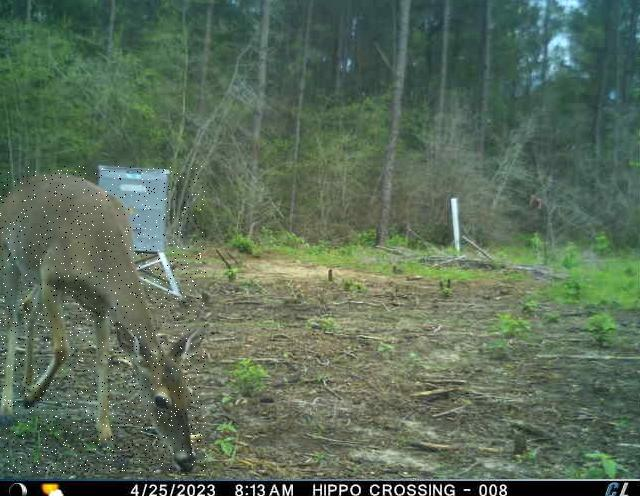Deer: (0, 166, 206, 473)
